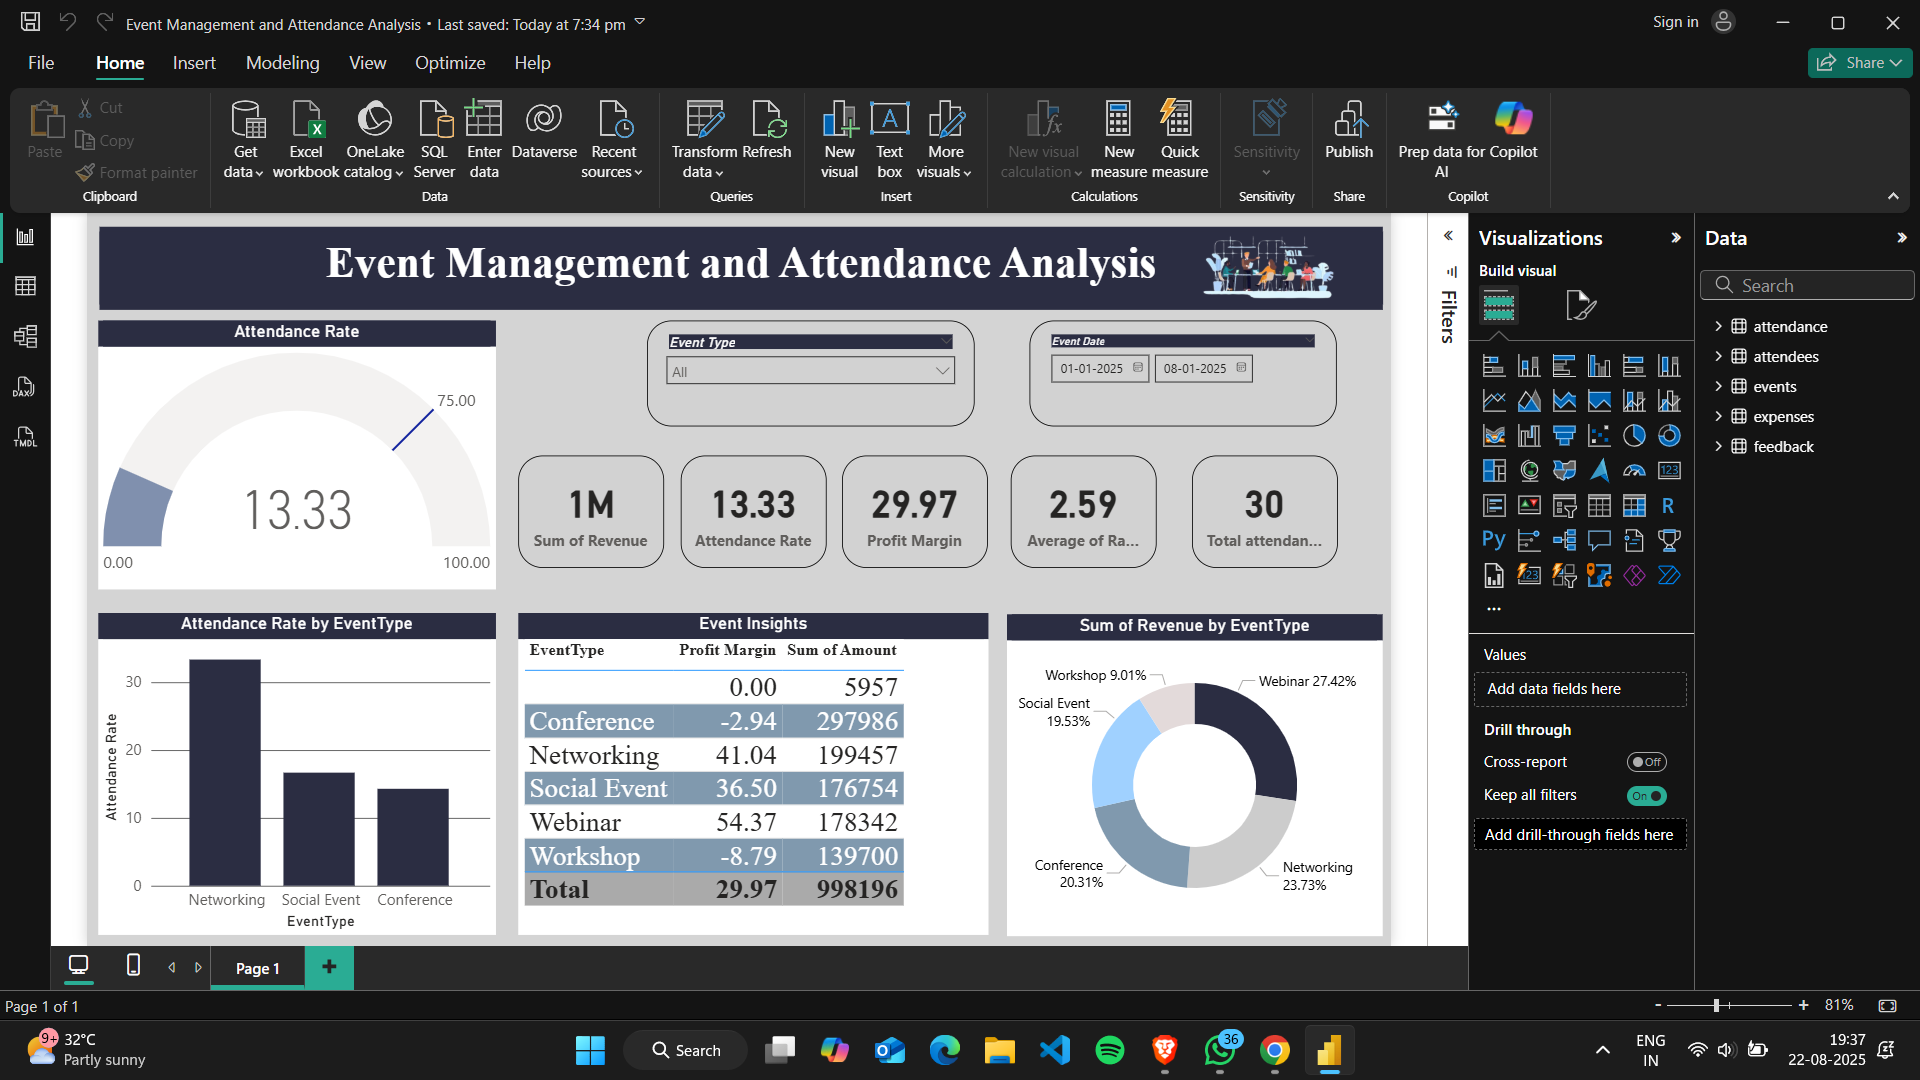

This screenshot's page, from the dashboard's own definition file:
{"tool":"powerbi","page":{"name":"Page 1","canvas":[1280,720],"ordinal":0},"visuals":[{"type":"shape","box":[11.7,13,1259.7,81.8],"z":0},{"type":"textbox","box":[11.7,18.2,1259.7,71.4],"z":1000},{"type":"shape","box":[205.7,95.7,412.9,624.3],"z":1001},{"type":"shape","box":[0,360,1280,44.3],"z":1002},{"type":"shape","box":[0,358.6,1280,44.3],"z":1003},{"type":"shape","box":[687.1,95.7,412.9,624.3],"z":1004},{"type":"gauge","fields":{"Y":["attendance.Attendance Rate"]},"box":[11.4,105.7,390,264.3],"z":1005},{"type":"columnChart","fields":{"Y":["attendance.Attendance Rate"],"Category":["events.EventType"]},"box":[11.4,392.9,390,315.7],"z":1006},{"type":"tableEx","title":"Event Insights","fields":{"Values":["events.EventType","attendance.Profit Margin","Sum(expenses.Amount)"]},"box":[422.9,392.9,461.4,315.7],"z":1007},{"type":"card","fields":{"Values":["Sum(events.Revenue)"]},"box":[422.9,238.6,142.9,110],"z":1008},{"type":"card","fields":{"Values":["attendance.Attendance Rate"]},"box":[582.9,238.6,142.9,110],"z":1009},{"type":"card","fields":{"Values":["attendance.Profit Margin"]},"box":[741.4,238.6,142.9,110],"z":1010},{"type":"card","fields":{"Values":["Avg(feedback.Rating)"]},"box":[907.1,238.6,142.9,110],"z":1011},{"type":"card","fields":{"Values":["attendance.Total attendance"]},"box":[1084.3,238.6,142.9,110],"z":1012},{"type":"donutChart","fields":{"Y":["Sum(events.Revenue)"],"Category":["events.EventType"]},"box":[902.9,394.3,368.6,315.7],"z":1013},{"type":"image","box":[1050,0,221.4,105.7],"z":1014},{"type":"slicer","fields":{"Values":["events.EventType"]},"box":[550,105.7,321.4,104.3],"z":1015},{"type":"slicer","fields":{"Values":["events.EventDate"]},"box":[925.7,105.7,301.4,104.3],"z":1016}]}

Visuals, with their boxes on the page's 1280x720 design canvas (x1, y1, x2, y2). These are canvas units, not pixel positions in the 1920x1080 screenshot, which may show the page scaled, cropped or inside an application window:
shape: locate(12, 13, 1271, 95)
textbox: locate(12, 18, 1271, 90)
shape: locate(206, 96, 619, 720)
shape: locate(0, 360, 1280, 404)
shape: locate(0, 359, 1280, 403)
shape: locate(687, 96, 1100, 720)
gauge - attendance.Attendance Rate: locate(11, 106, 401, 370)
columnChart - attendance.Attendance Rate x events.EventType: locate(11, 393, 401, 709)
"Event Insights" tableEx: locate(423, 393, 884, 709)
card - Sum(events.Revenue): locate(423, 239, 566, 349)
card - attendance.Attendance Rate: locate(583, 239, 726, 349)
card - attendance.Profit Margin: locate(741, 239, 884, 349)
card - Avg(feedback.Rating): locate(907, 239, 1050, 349)
card - attendance.Total attendance: locate(1084, 239, 1227, 349)
donutChart - Sum(events.Revenue) x events.EventType: locate(903, 394, 1272, 710)
image: locate(1050, 0, 1271, 106)
slicer - events.EventType: locate(550, 106, 871, 210)
slicer - events.EventDate: locate(926, 106, 1227, 210)
